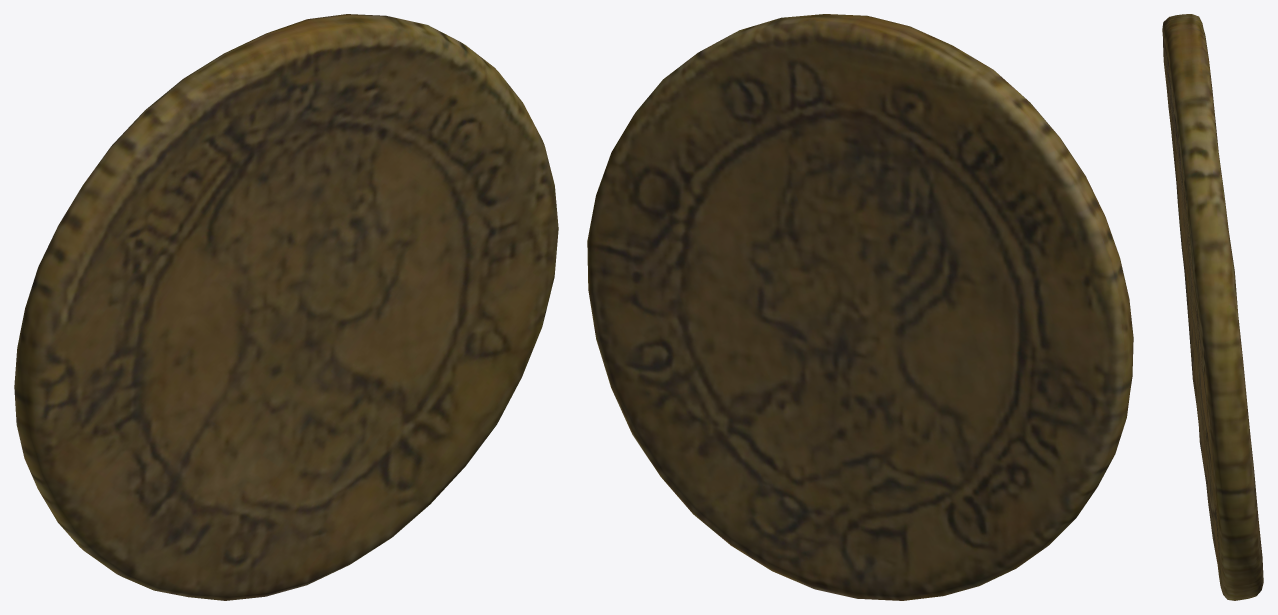
File: 22cbf3c78ab4_old_gold_coin__3d_a.fbx
3 renders of one model, left to right at view 1: azimuth 30°, elevation 25°; view 2: azimuth 150°, elevation 25°; view 3: azimuth 270°, elevation 25°, orthographic. The views are drawn at different scales.
Visible parts, largest first — view 1: mesh; view 2: mesh; view 3: mesh.
Part boxes in pixels (bbox=[...]): mesh: bbox=[14, 14, 558, 600]; mesh: bbox=[587, 14, 1133, 600]; mesh: bbox=[1162, 14, 1263, 600].
Size of the model in its own units: 98.7 by 99.9 by 17.19.
